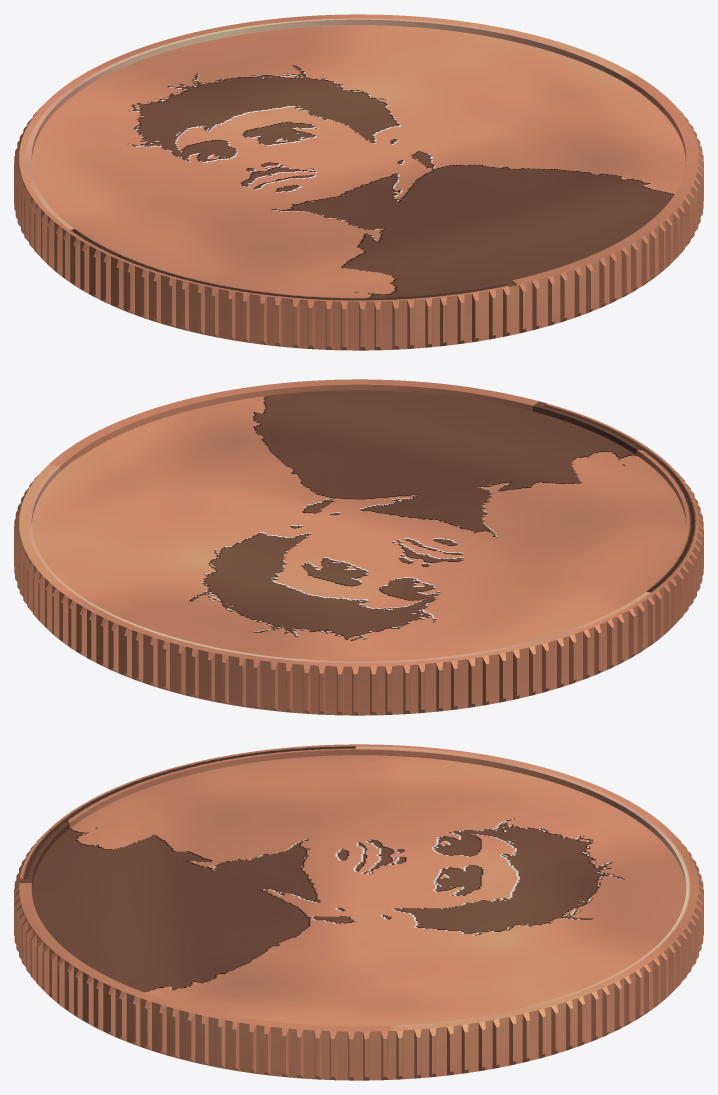
The model's file is moneda.glb.
3 views of the same model, one above another, from view 1: azimuth 30°, elevation 25°; view 2: azimuth 150°, elevation 25°; view 3: azimuth 270°, elevation 25° (orthographic).
Visible parts, largest first — view 1: Cylinder; view 2: Cylinder; view 3: Cylinder.
Part boxes in pixels (<box>): Cylinder: <box>14,14,703,350</box>; Cylinder: <box>14,379,703,715</box>; Cylinder: <box>14,744,703,1080</box>.
Bounding box in the file's own units: 2.03 × 0.1584 × 2.03.
1 material, 1 textured.
